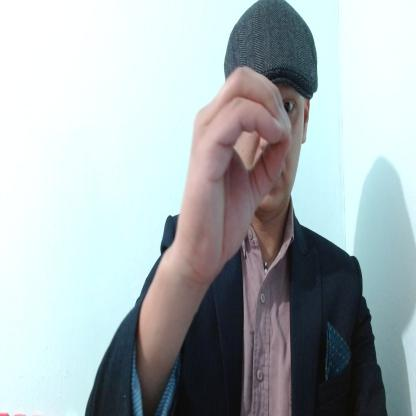O: (180, 63, 292, 280)
